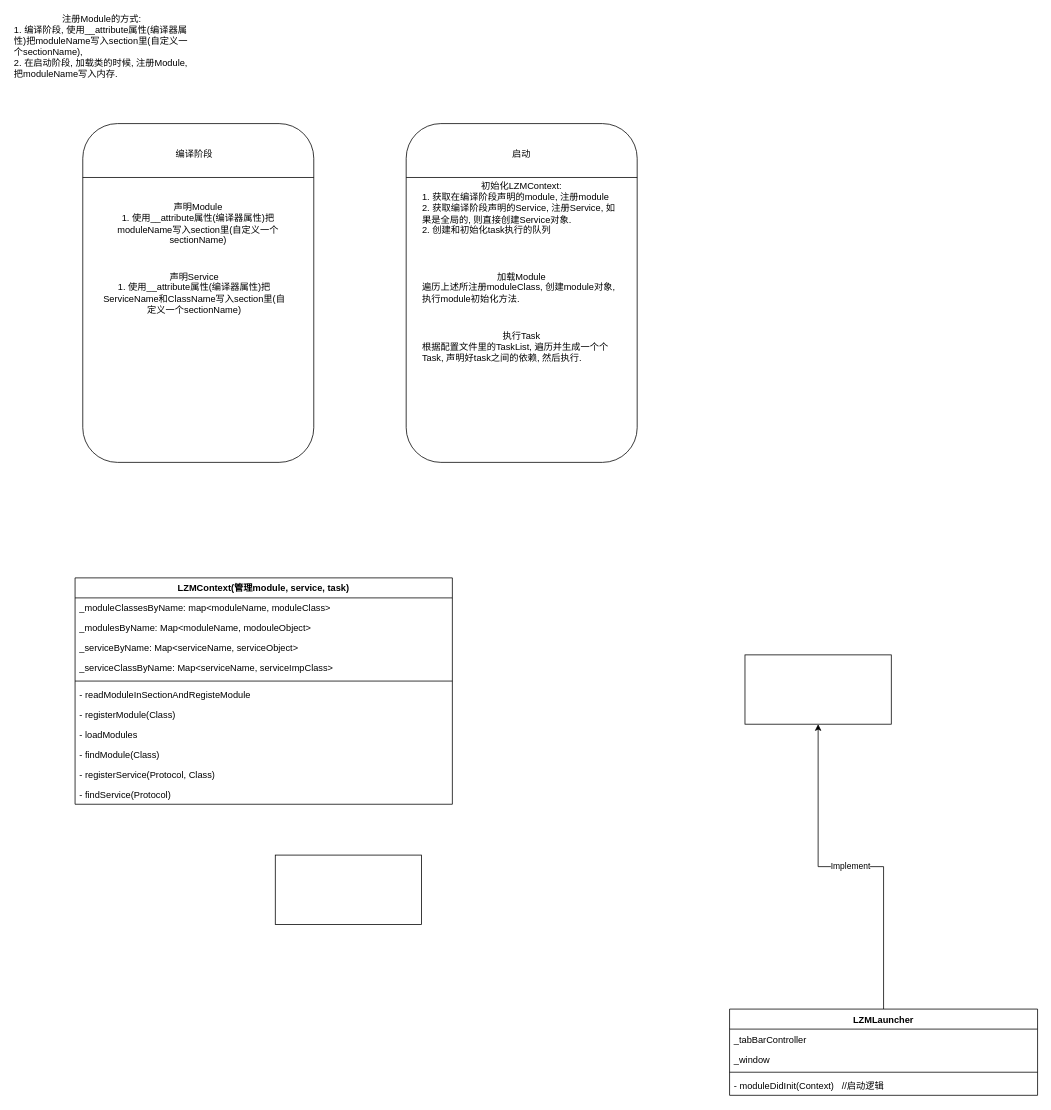
This 1051x1110 diagram has some shape labels left out. The shapes that lost their labels are listed below. From the top down, each one's box as (x1, y1, x2, y2) in pixels, then its label:
(744, 654, 891, 724): <<Protocol>> LZMModule - moduleDidInit(LZMContext) + loadAfterLaunch: bool
(275, 854, 422, 924): <<Protocol>> LZMService + globalVisible: bool
